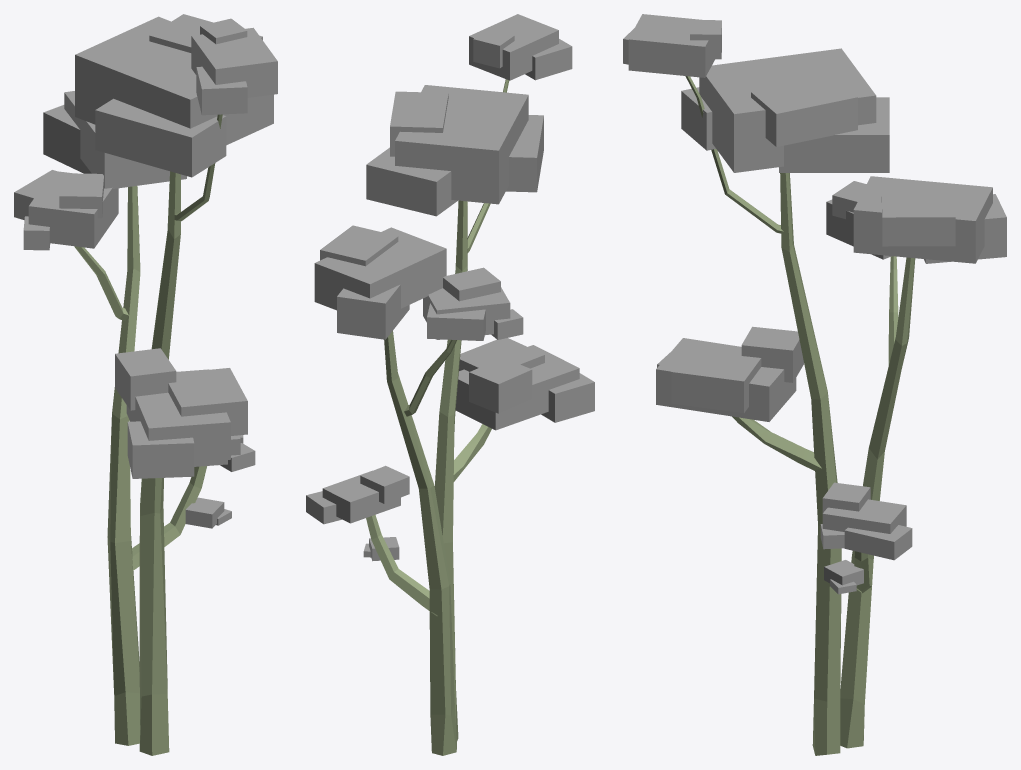
Rendered from SM_Tree_Jungle_B.fbx.
3 views of the same model, side by side, from view 1: azimuth 30°, elevation 25°; view 2: azimuth 150°, elevation 25°; view 3: azimuth 270°, elevation 25° (orthographic). The views are drawn at different scales.
Parts seen in each view (by area): view 1: SM_Tree_Jungle_B; view 2: SM_Tree_Jungle_B; view 3: SM_Tree_Jungle_B.
Boxes of the visible parts, <box> form: SM_Tree_Jungle_B: <box>14,14,277,755</box>; SM_Tree_Jungle_B: <box>306,14,594,755</box>; SM_Tree_Jungle_B: <box>623,14,1006,755</box>.
Bounding box in the file's own units: 436 × 1360 × 651.
